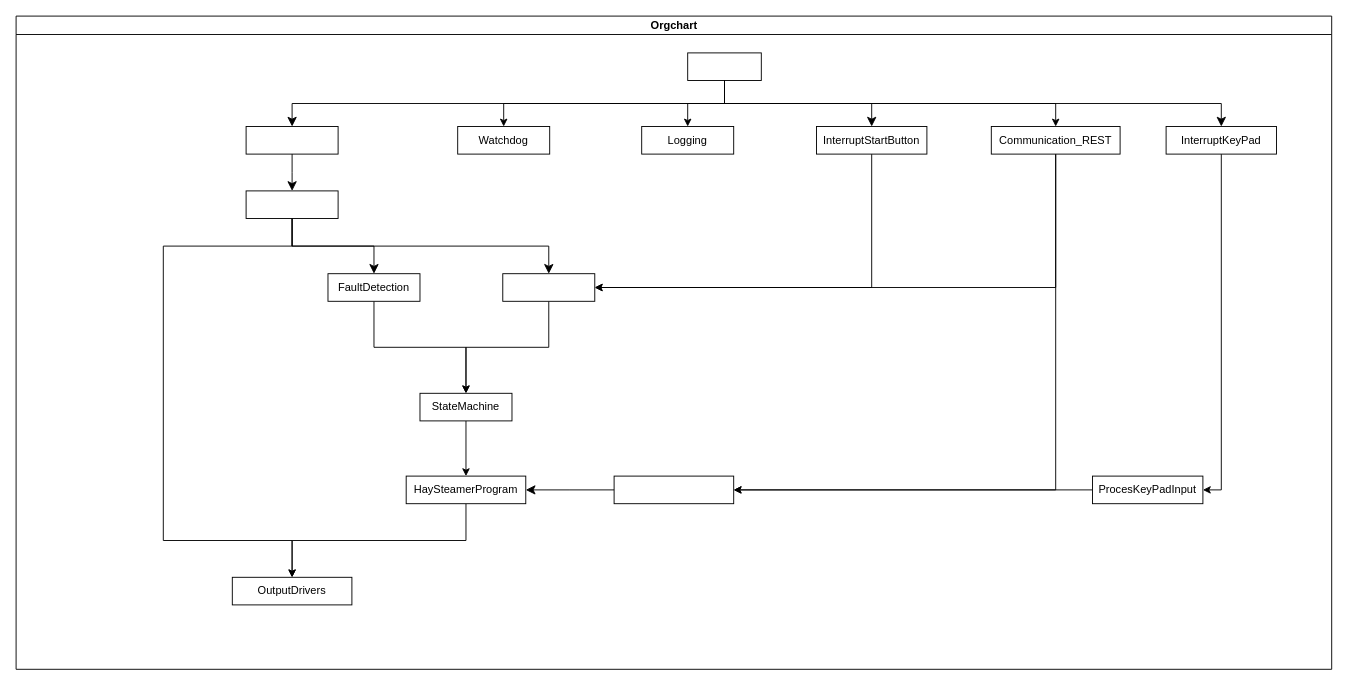
Some shapes in this 1348 by 685 pixel diagram are drawn without their labels. The centre of each missing label's shape, as x and y in pixels:
"CollectInputData" belongs at pixel 291 204.
"ConfigData" belongs at pixel 673 489.
"Main" belongs at pixel 724 66.
"StartCondition" belongs at pixel 548 287.
"TaskScheduler" belongs at pixel 291 140.
